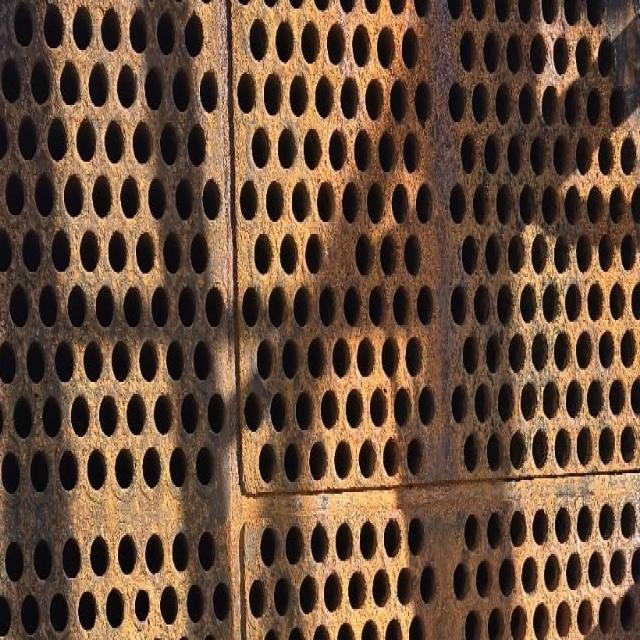Hole: (210, 573, 235, 638), (203, 274, 229, 336), (363, 377, 389, 435), (235, 172, 258, 236), (141, 440, 161, 513), (59, 50, 81, 115), (313, 172, 338, 229), (27, 52, 52, 108), (252, 222, 276, 280), (111, 440, 136, 495), (144, 520, 166, 582), (33, 163, 56, 222), (264, 384, 290, 435), (352, 325, 376, 380), (75, 108, 97, 168), (329, 327, 352, 384), (67, 384, 91, 438), (114, 58, 138, 112), (101, 115, 125, 169), (300, 122, 324, 176), (340, 279, 365, 330), (572, 322, 596, 375), (41, 389, 64, 444), (137, 336, 163, 384), (250, 120, 274, 172), (342, 378, 365, 432), (96, 387, 119, 441), (11, 391, 34, 444), (53, 328, 74, 386), (58, 444, 80, 499), (263, 174, 287, 224), (15, 113, 40, 161), (258, 522, 282, 572), (79, 223, 100, 280), (157, 580, 180, 632), (166, 444, 192, 490), (80, 330, 102, 384), (62, 170, 84, 224), (118, 170, 140, 224), (85, 440, 107, 494), (161, 227, 185, 276), (306, 433, 329, 484), (101, 4, 124, 55), (26, 328, 46, 386), (91, 168, 111, 226), (187, 229, 211, 277), (130, 115, 153, 165), (305, 332, 328, 382), (43, 0, 66, 50), (133, 228, 158, 274), (266, 278, 288, 330), (276, 120, 298, 172), (107, 222, 127, 279), (125, 385, 146, 439), (332, 435, 356, 482), (183, 9, 206, 58), (94, 279, 116, 330), (158, 119, 180, 170), (20, 224, 42, 275), (0, 444, 22, 495), (357, 434, 380, 482), (128, 0, 148, 55), (280, 332, 300, 387), (196, 526, 218, 576), (185, 578, 206, 630), (8, 281, 31, 328), (375, 24, 398, 71), (190, 336, 214, 381), (176, 282, 198, 331), (156, 8, 178, 57), (88, 529, 109, 580), (88, 58, 109, 109), (289, 172, 309, 225), (255, 330, 275, 383), (122, 284, 145, 330), (179, 390, 202, 436), (366, 281, 389, 327), (282, 439, 304, 487), (49, 226, 71, 274), (339, 73, 361, 121), (294, 387, 316, 435), (389, 280, 413, 324), (152, 387, 173, 437), (143, 60, 162, 115), (66, 277, 86, 329), (291, 280, 311, 332), (456, 29, 479, 74), (406, 510, 428, 557), (353, 232, 375, 279), (29, 447, 50, 496), (382, 512, 403, 561), (146, 170, 165, 224), (62, 534, 82, 585), (585, 542, 605, 593), (187, 122, 207, 173), (116, 530, 138, 576), (164, 336, 186, 382), (202, 178, 225, 222), (446, 78, 469, 122), (301, 231, 325, 273), (351, 20, 372, 68), (517, 80, 538, 128), (14, 0, 36, 45), (72, 5, 94, 50), (284, 519, 304, 568), (38, 279, 57, 330), (576, 593, 598, 637), (255, 440, 277, 484), (414, 181, 436, 225), (242, 390, 264, 434), (198, 68, 220, 112), (326, 20, 348, 64), (279, 234, 301, 278), (272, 574, 294, 618), (404, 334, 426, 378), (172, 67, 193, 113), (320, 387, 343, 429), (110, 336, 130, 384), (322, 568, 342, 616), (48, 113, 68, 161), (2, 53, 21, 103), (206, 391, 228, 434), (540, 83, 562, 126), (378, 232, 399, 277), (392, 383, 413, 428), (585, 277, 605, 324), (6, 172, 26, 219), (170, 527, 189, 576), (616, 230, 637, 274), (553, 425, 574, 469), (33, 537, 54, 581), (289, 71, 310, 115), (353, 128, 374, 172), (400, 24, 421, 68), (389, 78, 410, 122), (364, 76, 385, 120), (380, 334, 401, 378), (494, 80, 516, 122), (49, 587, 69, 633), (175, 173, 195, 219), (390, 180, 410, 226), (414, 78, 434, 124), (508, 600, 532, 638), (298, 568, 317, 616), (482, 27, 501, 75), (247, 578, 268, 621), (403, 231, 424, 274), (529, 29, 550, 72), (195, 445, 217, 486), (78, 588, 98, 633), (242, 282, 260, 332), (594, 229, 614, 274), (235, 71, 256, 113), (365, 180, 386, 222), (551, 34, 572, 76), (618, 133, 638, 177), (316, 281, 336, 325), (520, 556, 540, 600), (618, 327, 638, 371), (249, 18, 269, 62), (314, 72, 334, 116), (310, 522, 330, 566), (574, 36, 596, 76), (596, 134, 616, 178), (494, 182, 516, 222), (21, 590, 39, 638), (0, 336, 18, 384), (263, 71, 284, 112), (327, 129, 347, 172), (378, 129, 398, 172), (416, 385, 436, 428), (509, 430, 529, 473), (151, 286, 170, 331), (335, 520, 355, 562), (358, 518, 378, 560), (562, 85, 583, 125), (574, 134, 594, 176), (346, 570, 368, 608), (416, 280, 435, 324), (106, 583, 124, 629), (472, 78, 492, 119), (450, 285, 470, 326), (472, 184, 492, 225), (609, 545, 629, 586), (608, 85, 627, 128), (372, 568, 392, 608), (596, 36, 616, 76), (483, 134, 503, 174), (342, 180, 361, 222), (541, 182, 560, 224), (419, 562, 438, 604), (586, 84, 604, 128), (586, 186, 604, 230), (618, 592, 636, 636), (301, 21, 320, 62), (408, 437, 427, 478), (552, 132, 571, 173), (608, 186, 627, 227), (462, 332, 481, 373), (448, 186, 469, 223), (453, 558, 471, 601), (397, 561, 415, 604), (5, 539, 22, 584), (383, 436, 402, 476), (472, 286, 491, 326), (553, 334, 572, 374), (530, 429, 549, 469), (463, 512, 482, 552), (486, 511, 506, 549), (619, 502, 638, 542), (618, 422, 636, 464), (402, 127, 420, 169), (563, 182, 581, 224), (552, 232, 570, 274), (573, 230, 591, 272), (566, 550, 584, 592), (497, 282, 514, 326), (507, 332, 526, 371), (554, 599, 574, 636), (554, 505, 574, 542), (474, 560, 494, 597), (597, 330, 615, 371), (275, 21, 294, 59), (506, 34, 525, 72), (506, 136, 525, 174), (529, 133, 548, 171), (532, 602, 552, 638), (544, 551, 562, 591), (461, 131, 479, 171), (460, 237, 480, 273), (508, 234, 528, 270), (519, 282, 537, 322), (563, 282, 581, 322), (484, 329, 502, 369), (585, 380, 605, 416), (575, 427, 593, 467), (462, 436, 481, 473), (499, 558, 518, 595), (498, 384, 515, 425), (474, 384, 492, 422), (542, 381, 560, 419), (598, 426, 616, 464), (531, 505, 547, 547), (608, 381, 627, 416), (576, 506, 595, 541), (134, 585, 150, 626), (519, 183, 536, 221), (532, 334, 549, 372), (520, 385, 537, 423), (565, 380, 581, 420), (530, 237, 548, 272), (598, 596, 615, 633), (0, 218, 12, 270), (598, 504, 615, 540), (483, 237, 500, 272), (488, 607, 506, 640), (452, 387, 468, 424), (464, 611, 485, 639), (510, 512, 527, 546), (542, 286, 558, 322), (406, 612, 428, 638), (610, 282, 626, 317), (488, 437, 503, 472), (382, 611, 401, 638), (515, 0, 535, 25), (562, 0, 582, 25), (540, 0, 560, 25), (492, 0, 512, 25), (585, 1, 604, 26), (629, 378, 640, 418), (631, 184, 640, 222), (632, 281, 640, 321)
